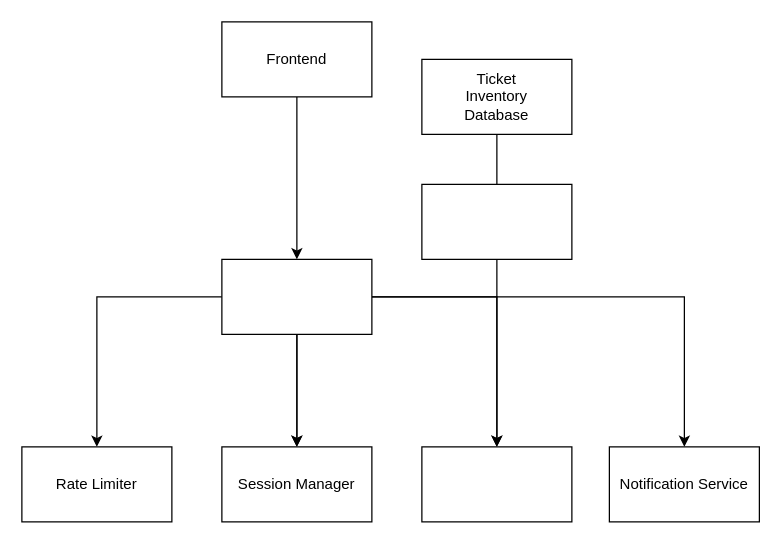
This 781x544 diagram has some shape labels left out. The shapes that lost their labels are listed below. From the top down, each one's centre as x and y in pixels, then its label:
At point 496,221: "Ticket Reservation Service".
At point 296,296: "Load Balancer".
At point 496,484: "Paymente Gateway".
